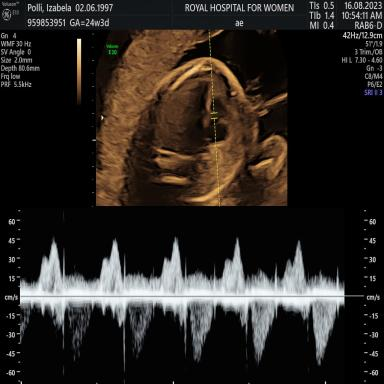Ultrasound-Waves: (24, 216, 344, 384)
